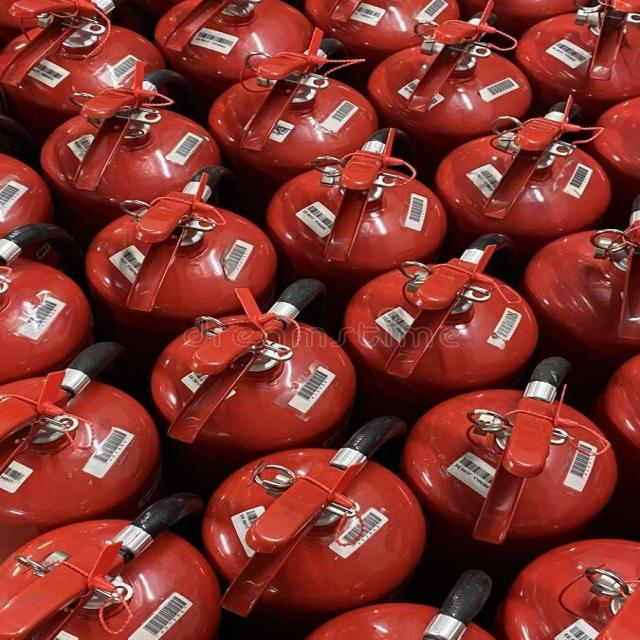fire_extinguisher: (132, 270, 370, 536), (266, 120, 456, 432), (202, 38, 410, 322), (83, 160, 292, 428), (376, 353, 629, 564), (410, 92, 607, 362), (327, 227, 554, 461), (198, 407, 432, 617), (362, 4, 548, 268), (140, 0, 320, 260), (12, 0, 174, 286), (4, 334, 191, 576), (42, 74, 230, 301), (2, 487, 226, 639), (507, 3, 639, 255), (0, 210, 128, 437), (511, 190, 639, 360), (294, 558, 520, 640), (494, 520, 639, 640)
